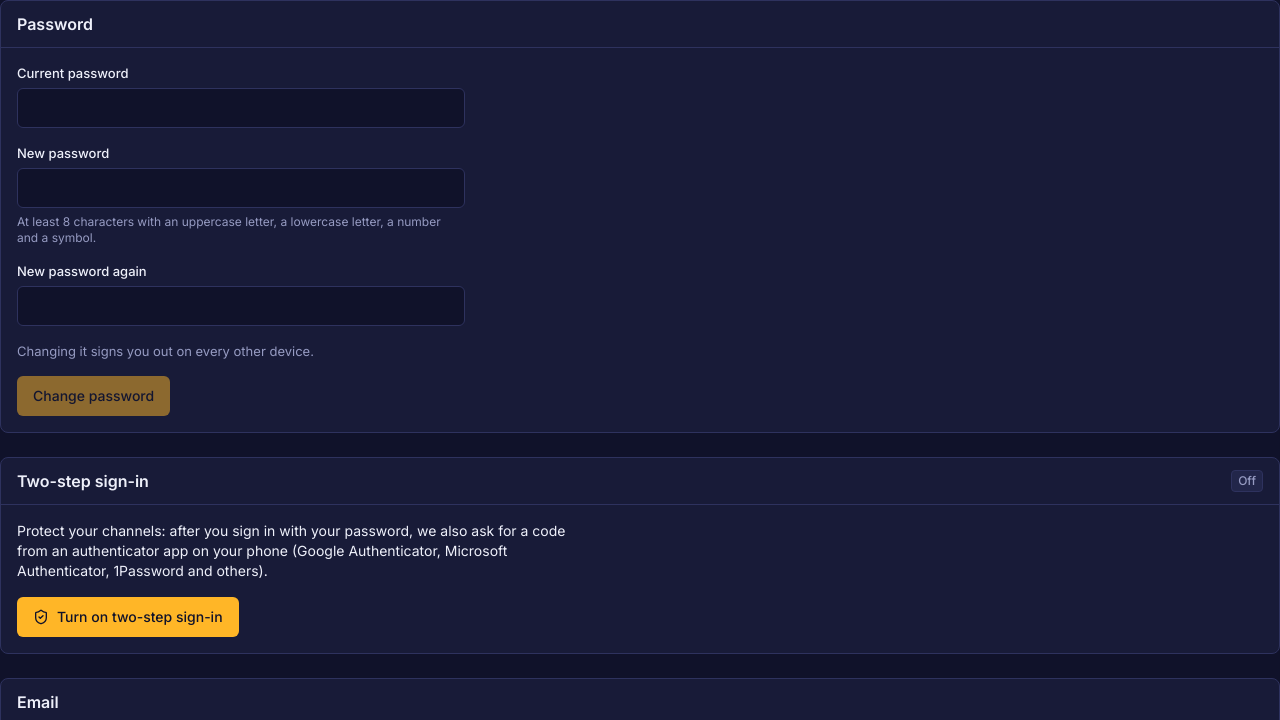
Test case: change password (UX audit #14) › shows the server's reason when the current password is wrong
Type "nope" into the password field labelled "Current password" at coordinates (241, 108), box x1=17 y1=88 x2=465 y2=128
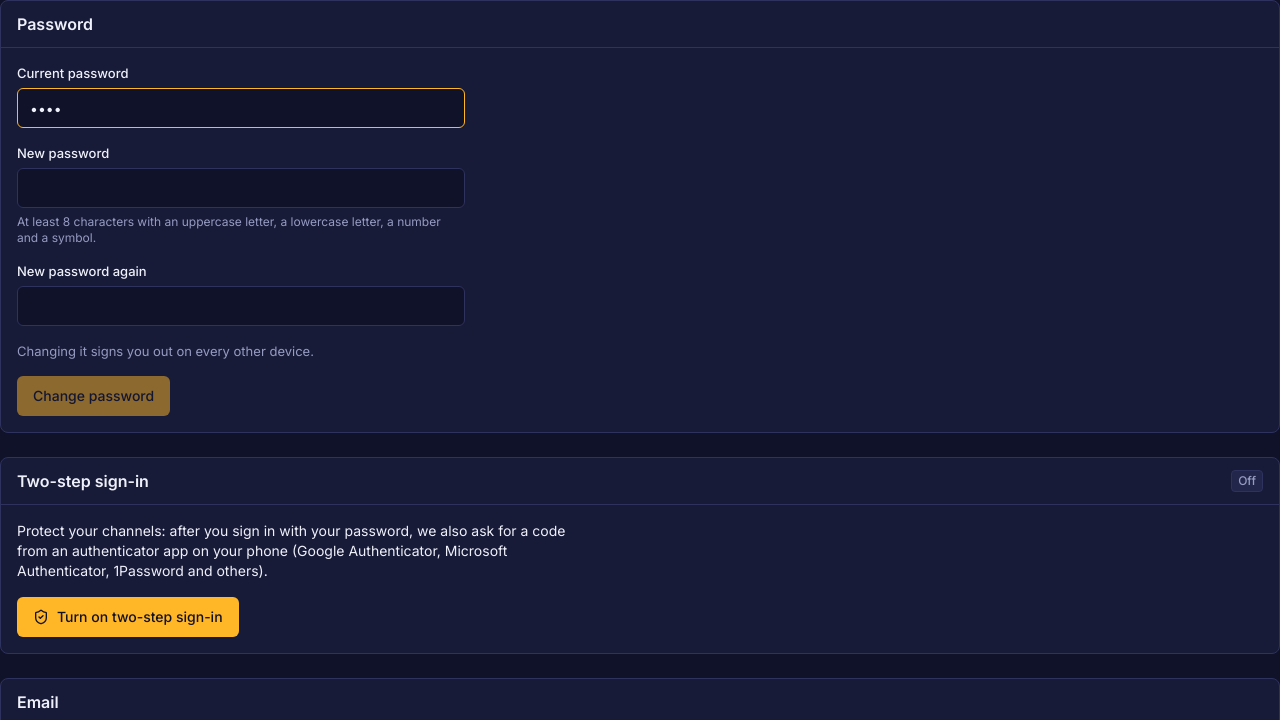
Type "New-pass2!" into the password field labelled "New password" at coordinates (241, 188), box x1=17 y1=168 x2=465 y2=208
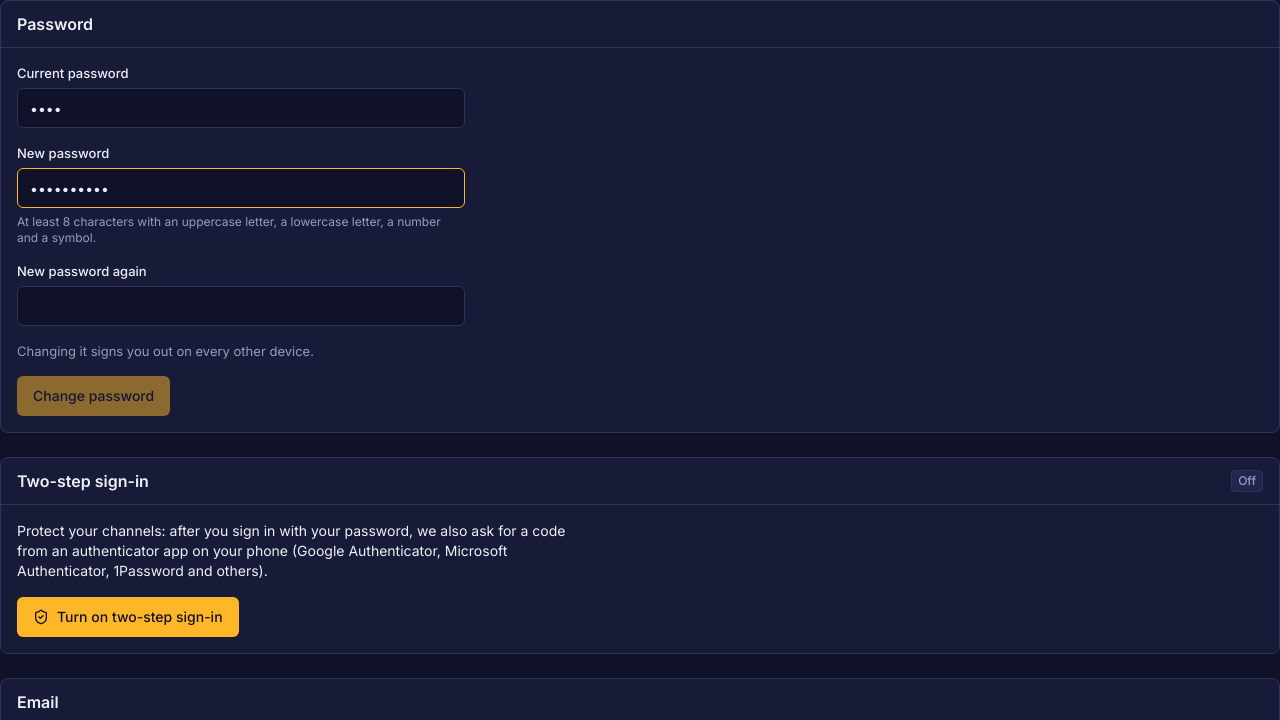
Type "New-pass2!" into the password field labelled "New password again" at coordinates (241, 306), box x1=17 y1=286 x2=465 y2=326
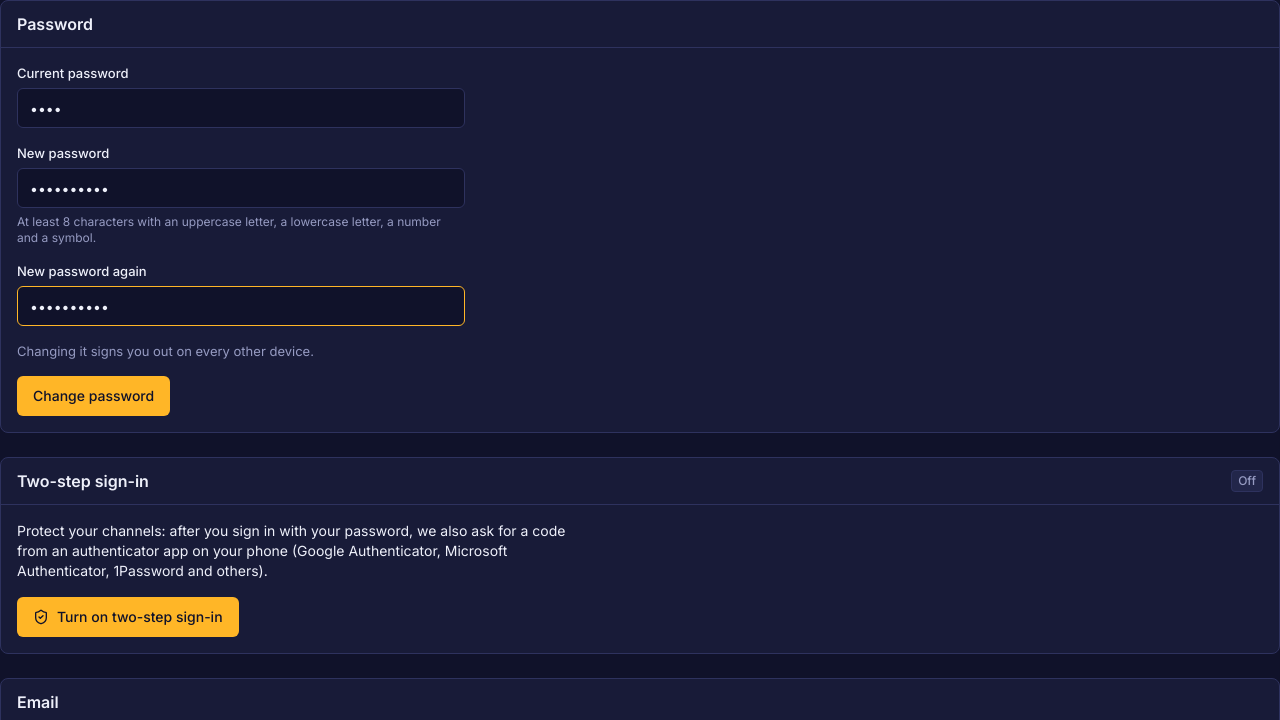
Click the button "Change password" at coordinates (94, 396), box x1=17 y1=376 x2=170 y2=416
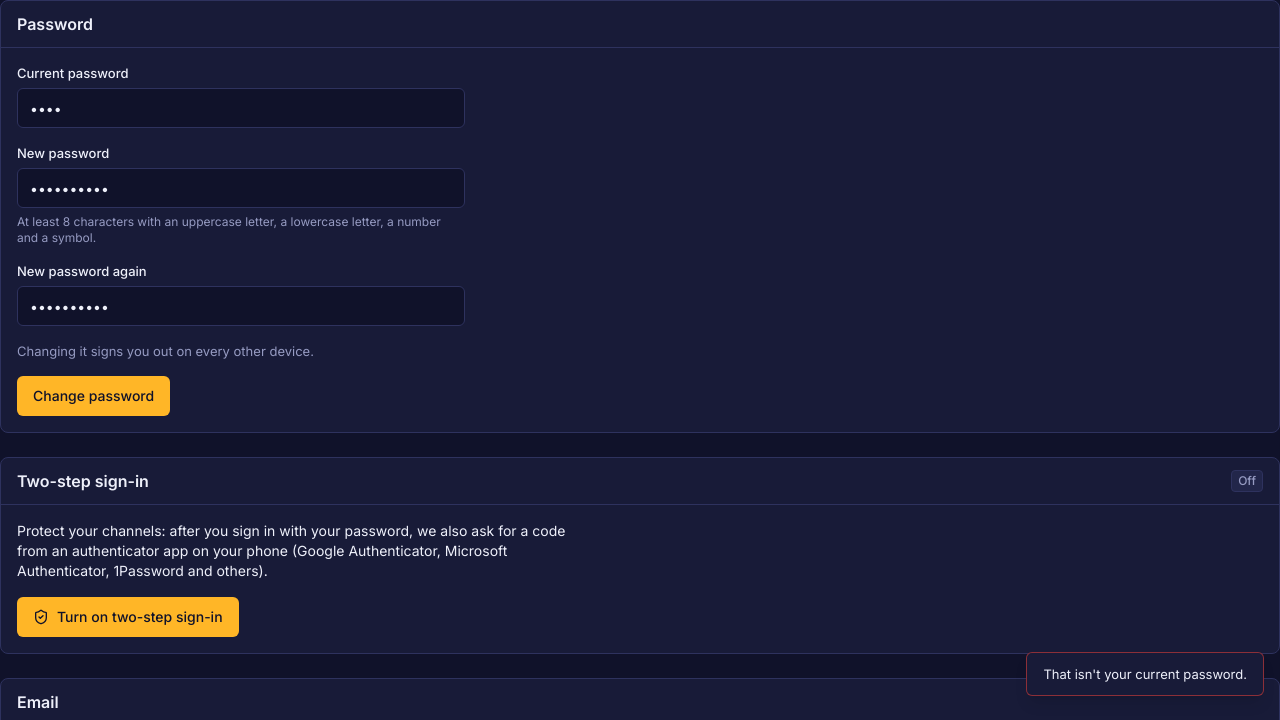
Expected: the text "That isn't your current password." is shown, x1=1026 y1=652 x2=1264 y2=696
